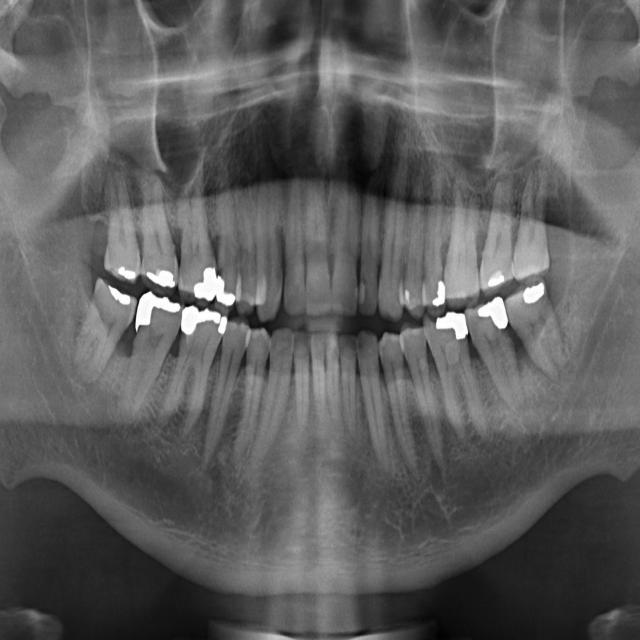3M ESPE Implant: (103, 162, 140, 285)
AGS Medikal Implant: (462, 292, 530, 425)
AMerOss Implant: (422, 304, 493, 448)
Amalgam filling: (152, 203, 157, 227)
Anthogyr Implant: (396, 317, 460, 477)
Bicon Implant: (375, 329, 429, 486)
BioHorizons Implant: (354, 327, 394, 480)
BioLife Implant: (339, 332, 358, 440)
Biomet 3i Implant: (323, 329, 343, 430)
Blue Sky Bio Implant: (310, 329, 327, 428)
Camlog Implant: (293, 329, 312, 440)
Caries: (358, 165, 381, 319)
Composite filling: (245, 323, 302, 477)
Cowellmedi Implant: (230, 325, 272, 464)
Crown: (187, 311, 253, 475)
DENTSPLY Implant: (174, 183, 219, 304)
Dentatus Implant: (151, 300, 229, 446)
Dentis Implant: (98, 286, 188, 427)
Dentium Implant: (66, 275, 143, 390)
Euroteknika Implant: (215, 164, 236, 314)
Filling: (235, 177, 257, 316)
Frontier Implant: (255, 161, 284, 323)
Hiossen Implant: (378, 138, 410, 323)
Implant: (305, 157, 330, 319)
Implant Direct: (280, 170, 305, 318)
Keystone Dental Implant: (331, 156, 361, 320)
MIS Implant: (404, 174, 425, 319)
Mandible: (420, 160, 446, 313)
Maxilla: (445, 181, 483, 315)
Megagen Implant: (480, 174, 515, 296)
Neodent Implant: (510, 165, 552, 284)
Neoss Implant: (498, 276, 578, 391)
